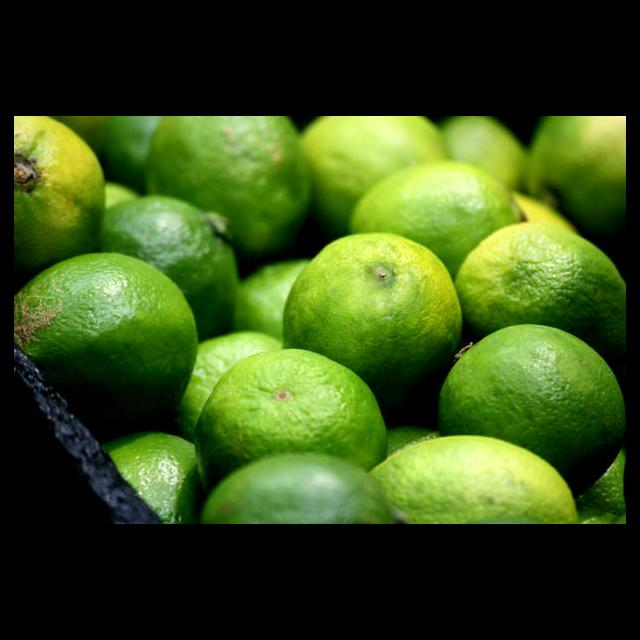lime: (14, 253, 198, 437), (439, 325, 626, 499)
